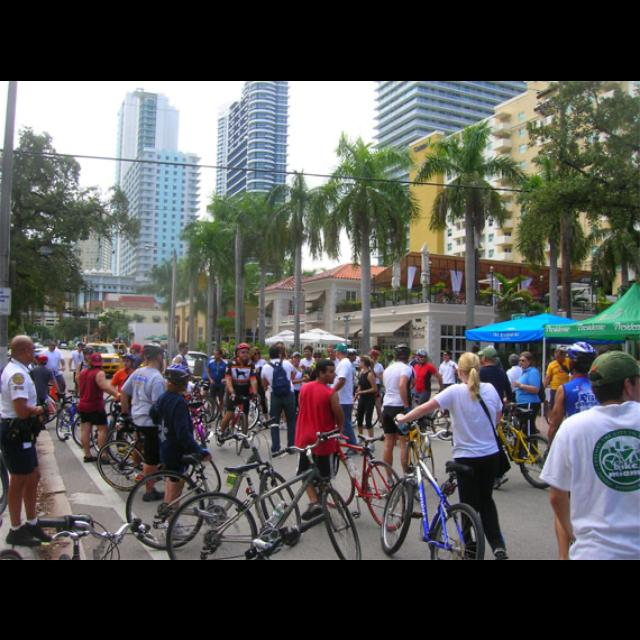With Helmet: (162, 360, 190, 392), (232, 340, 252, 364)
Without Helmet: (310, 354, 338, 384)
